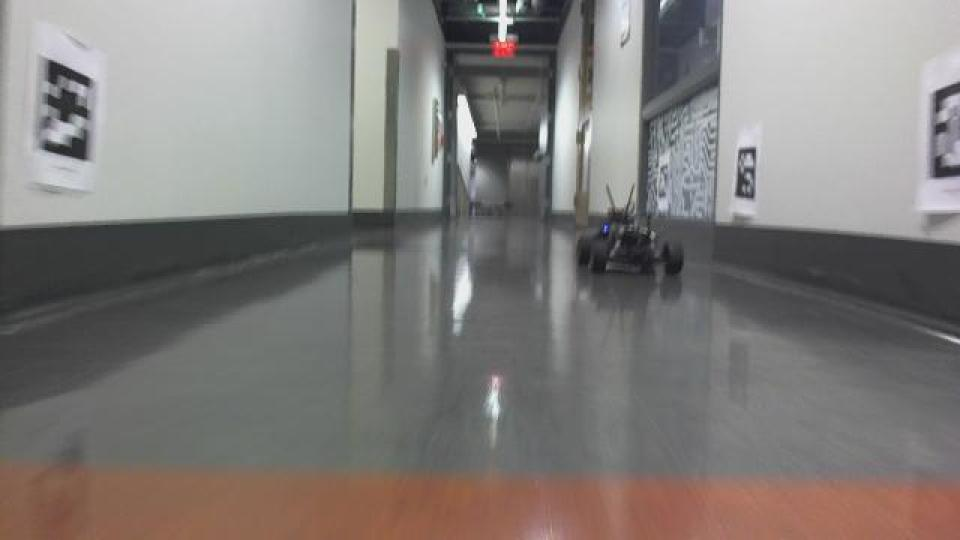car: (571, 180, 687, 280)
